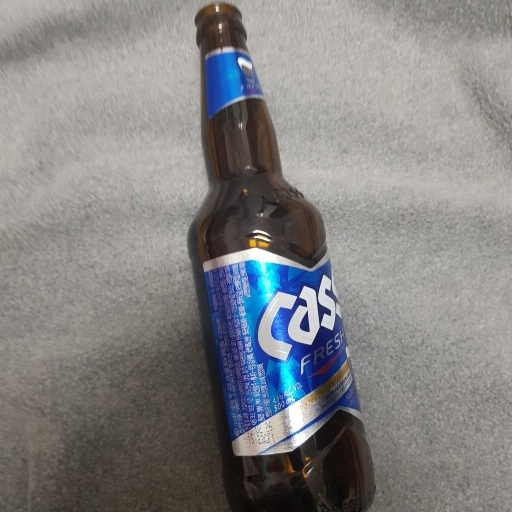Glass_1: (179, 1, 380, 512)
